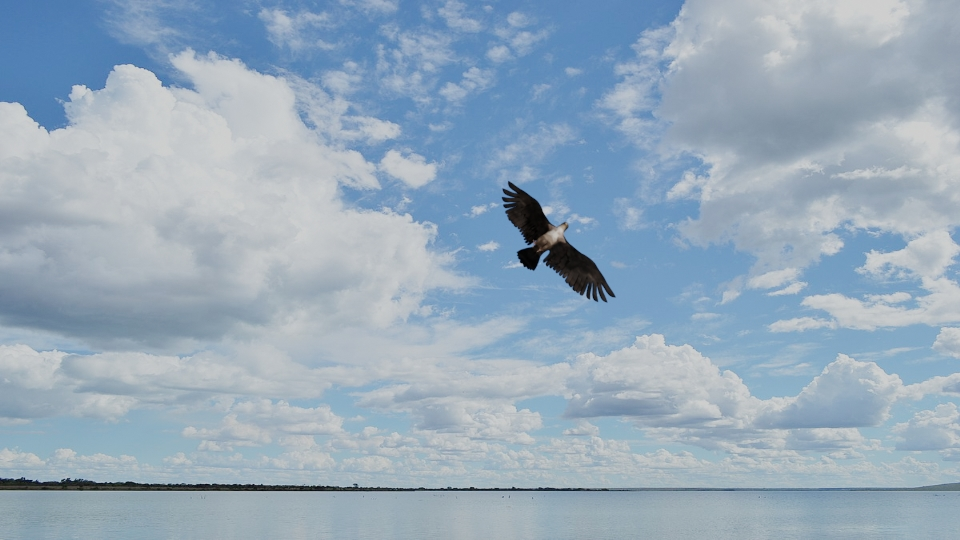bird: (503, 180, 628, 302)
